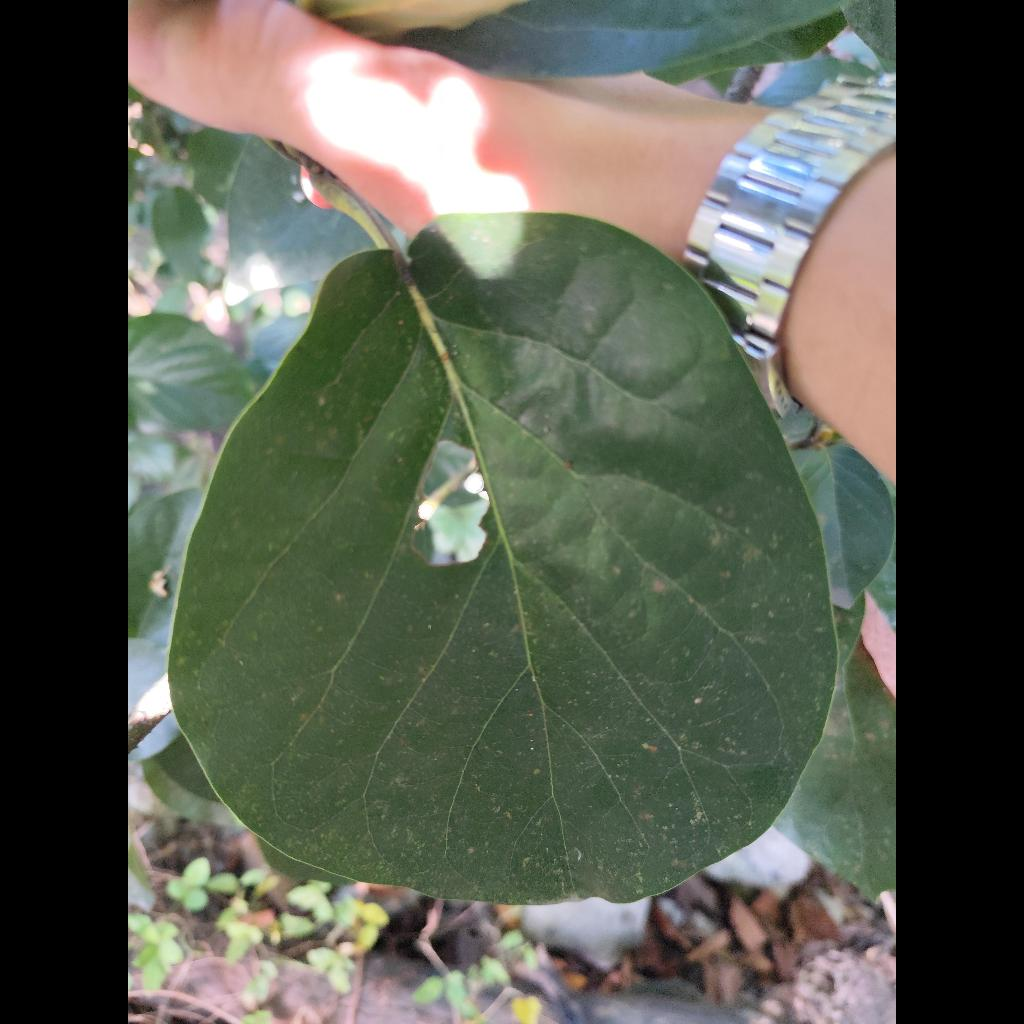Pest Infested: (169, 213, 836, 901)
